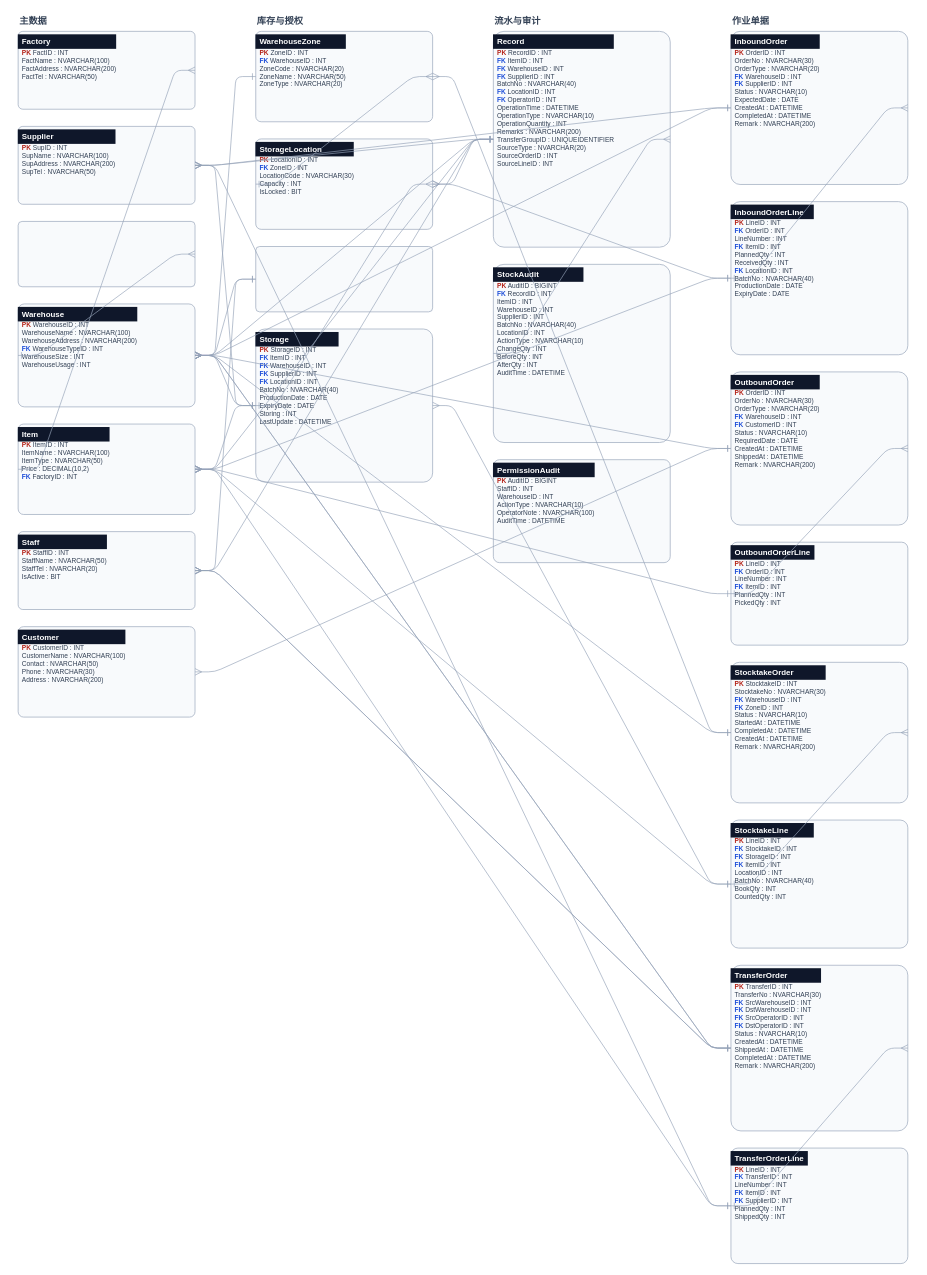
Some shapes in this 927 by 1275 pixel diagram are drawn without their labels. The centre of each missing label's shape, as x and y in pixels:
"StaffAssignment PK StaffID : INT PK WarehouseID : INT AssignDate : DATETIME" belongs at pixel 344 279.
"WarehouseType PK TypeID : INT TypeName : NVARCHAR(20) Remark : NVARCHAR(100)" belongs at pixel 106 254.
